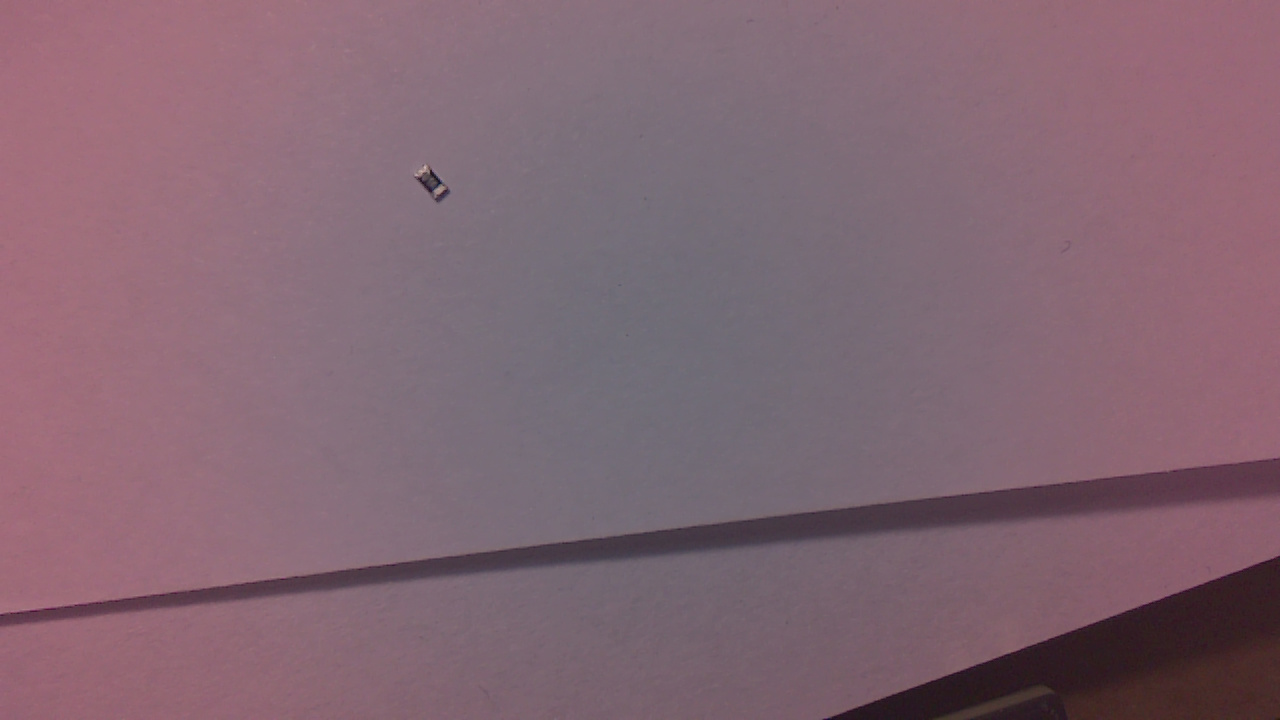Resistor: (419, 169, 457, 205)
